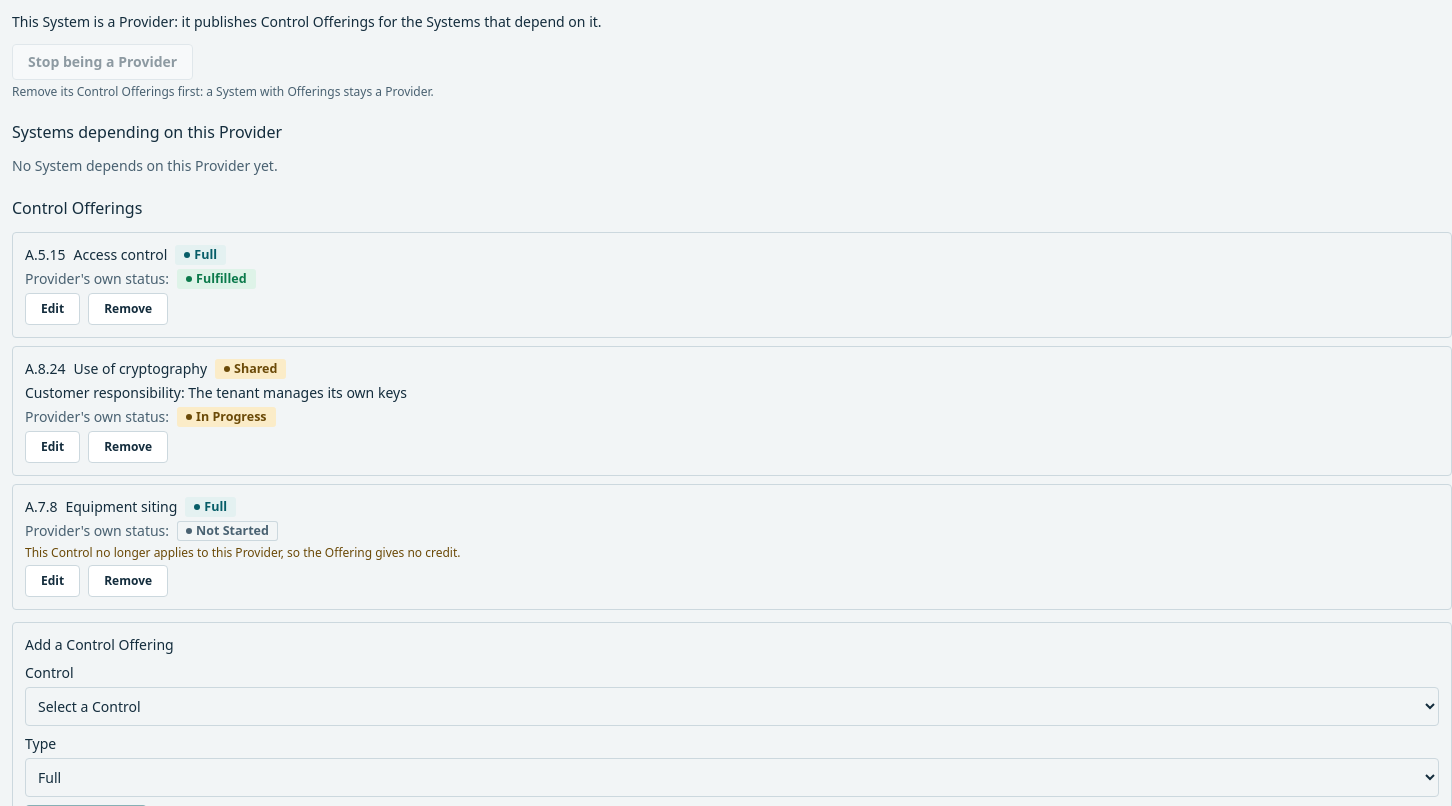
Test case: SystemProvider (#123) › editing an Offering › needs a text to turn a Full Offering into Shared
Click the button with aria-label "Edit Offering A.5.15".
click(53, 309)  # box [25,293,80,325]
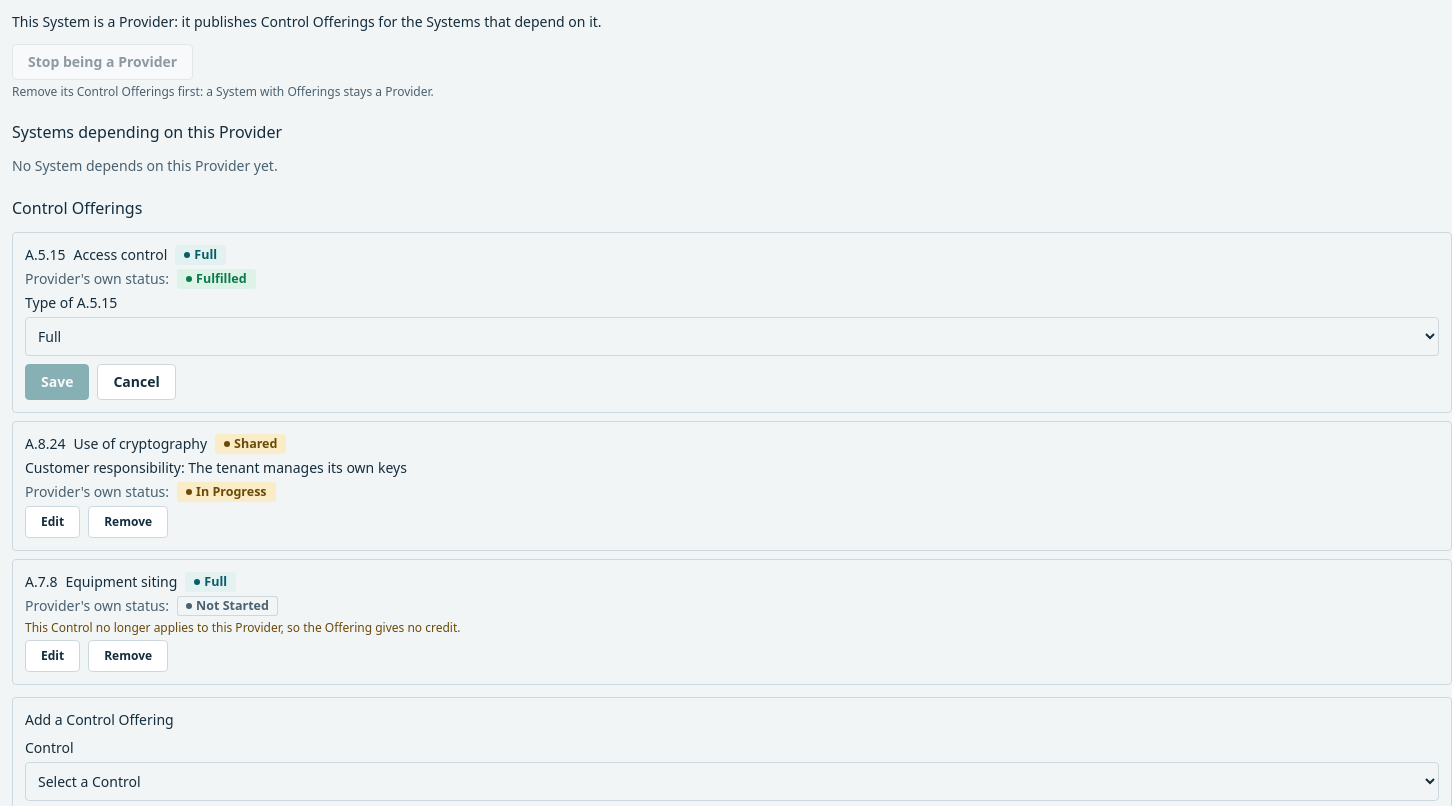
Select "Shared" in the dropdown labelled "Type of A.5.15" at (732, 336), box [25,317,1439,356]
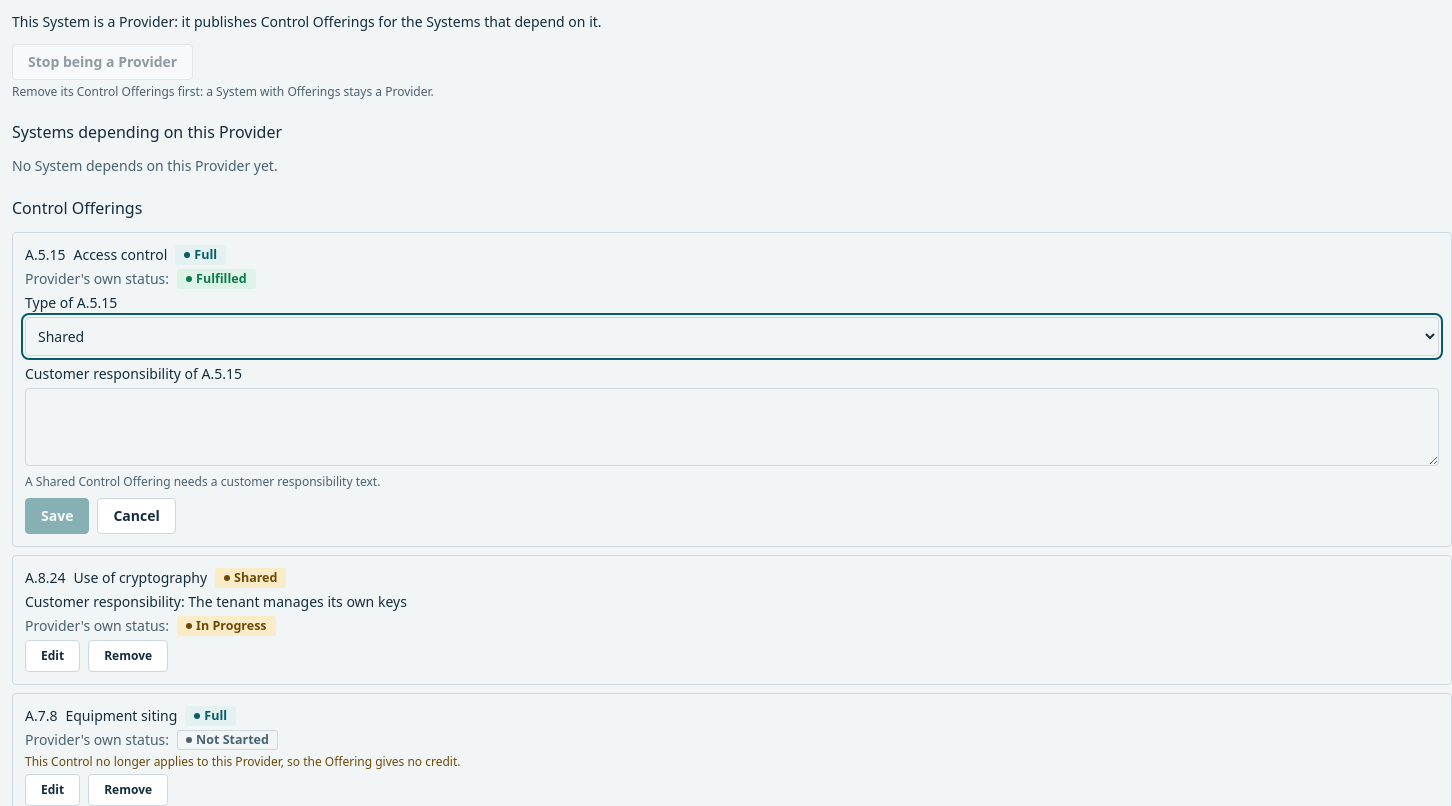
Check: the button "Save" is disabled, box [25,498,89,534]
Type "Keys" into the text box labelled "Customer responsibility of A.5.15".
click(732, 427); type("Keys")  # box [25,388,1439,466]
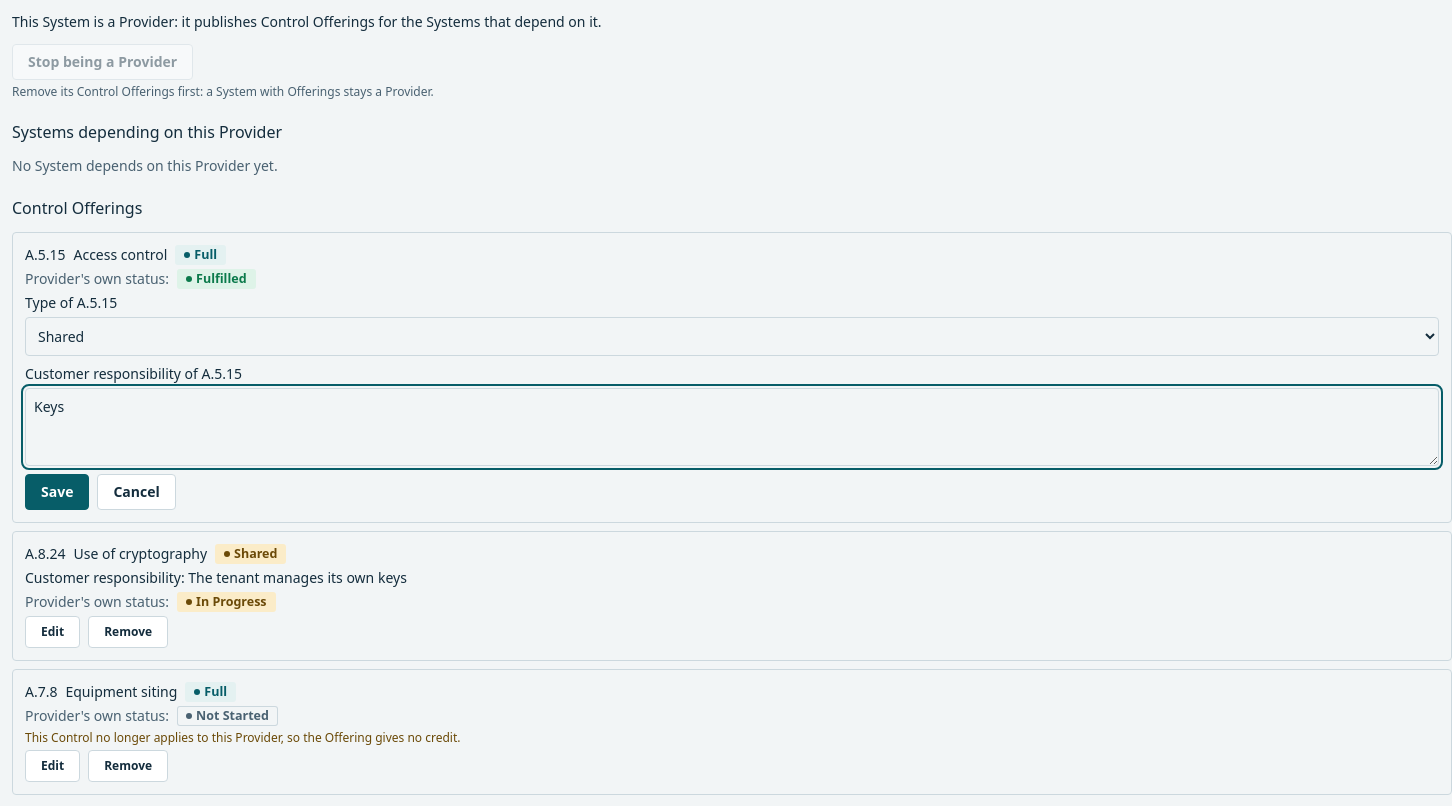
Check: the button "Save" is enabled, box [25,474,89,510]
